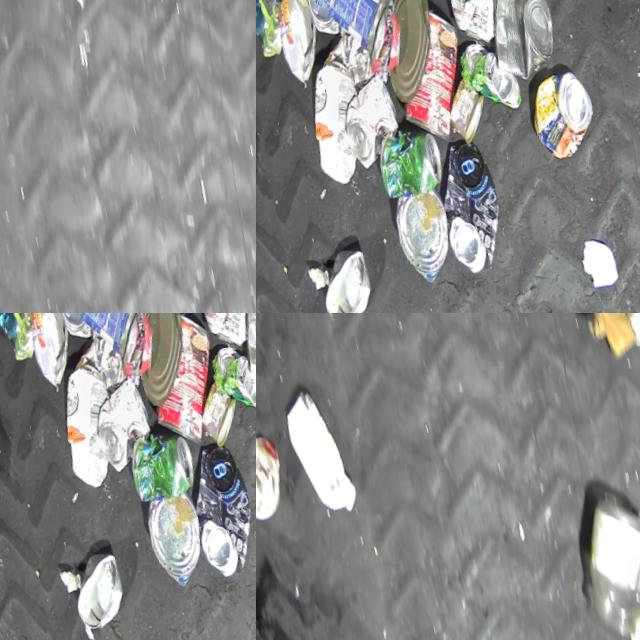can: (378, 0, 485, 145), (130, 313, 237, 449), (427, 129, 524, 275), (178, 432, 256, 579), (522, 55, 609, 160), (363, 0, 453, 101), (334, 63, 416, 171), (86, 367, 168, 475), (388, 180, 469, 285), (140, 484, 221, 589), (115, 313, 205, 405), (471, 0, 570, 81), (296, 0, 411, 62), (68, 545, 142, 638), (376, 115, 456, 201), (128, 419, 208, 505), (454, 25, 530, 115), (48, 313, 163, 366), (265, 0, 333, 85), (316, 240, 389, 313), (17, 313, 85, 389), (256, 422, 303, 525), (205, 329, 256, 418), (441, 66, 499, 142), (193, 370, 251, 446), (433, 0, 519, 45), (185, 313, 256, 349), (300, 0, 345, 36), (52, 313, 97, 340)
